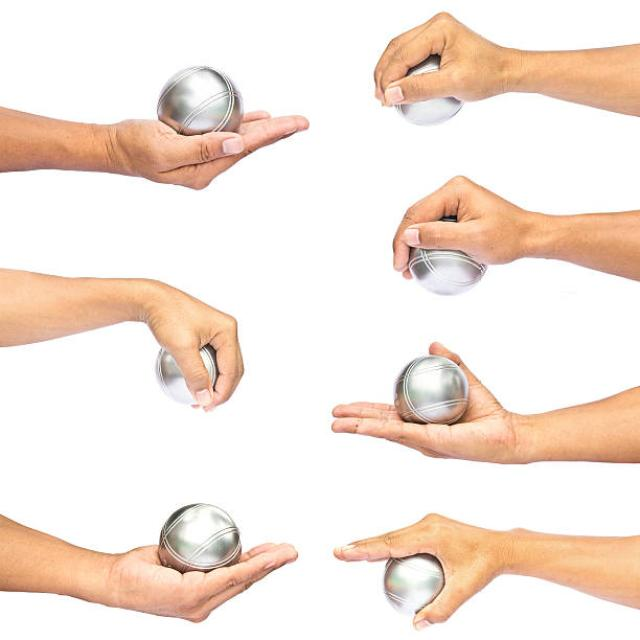petanque: (146, 60, 257, 138), (149, 497, 248, 578), (393, 216, 495, 294), (382, 353, 473, 434), (388, 55, 481, 134), (377, 553, 457, 620), (148, 334, 222, 406)
